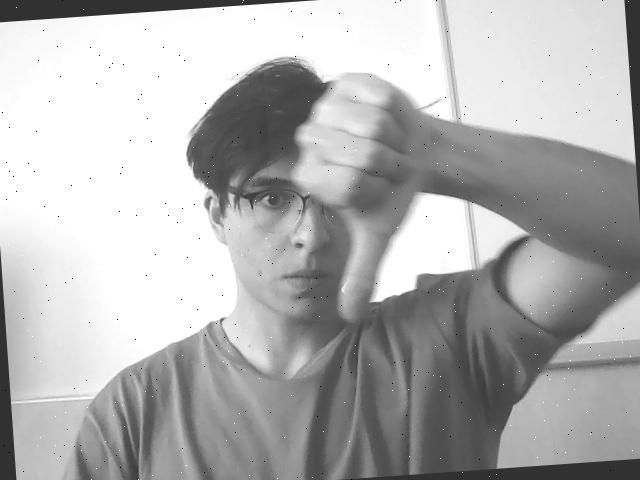bad: (262, 54, 442, 322)
